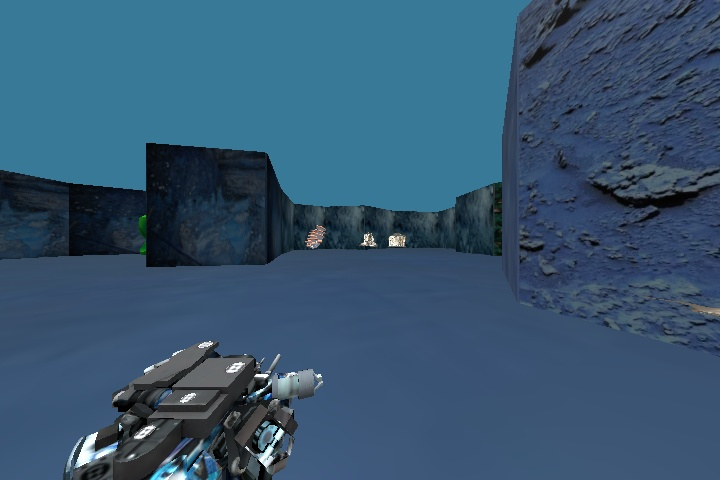formation: (359, 227, 413, 248)
mushrooms: (296, 217, 324, 251)
